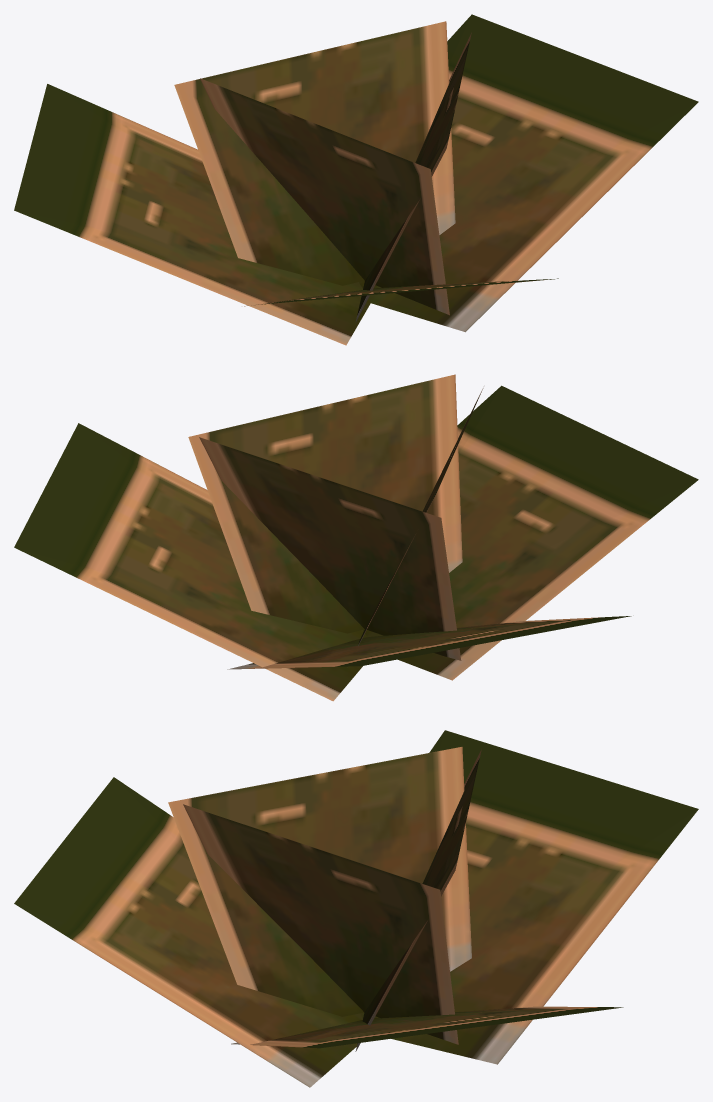
The model's file is grass_dead_01.fbx.
3 views of the same model, one above another, from view 1: azimuth 30°, elevation 25°; view 2: azimuth 150°, elevation 25°; view 3: azimuth 270°, elevation 25° (orthographic). The views are drawn at different scales.
Visible parts, largest first — view 1: obj0.307; view 2: obj0.307; view 3: obj0.307.
Boxes of the visible parts, left/top/right/bottom form: obj0.307: left=14, top=14, right=698, bottom=345; obj0.307: left=14, top=374, right=698, bottom=701; obj0.307: left=14, top=730, right=698, bottom=1087.
Size of the model in its own units: 2.46 by 0.7909 by 2.24.
